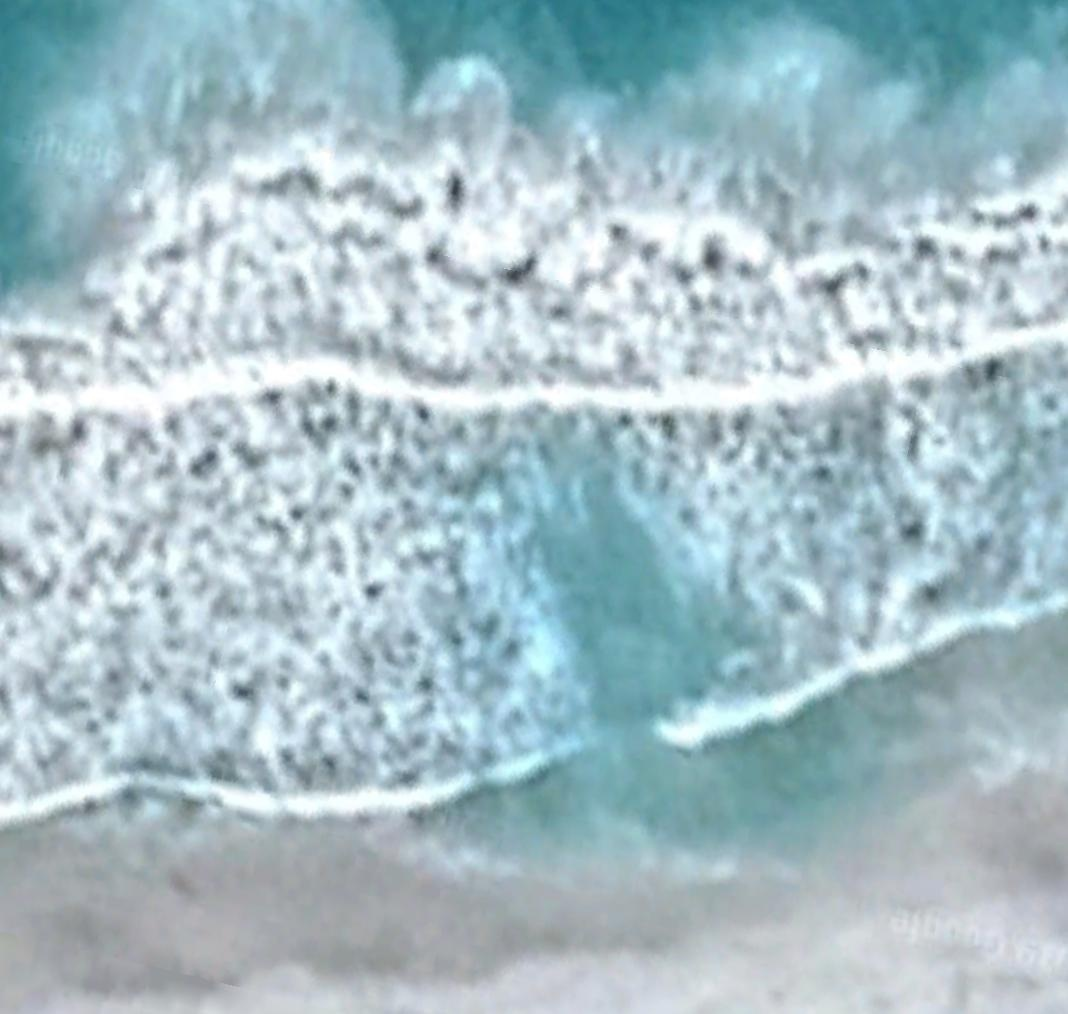rip_current: (419, 313, 820, 793)
